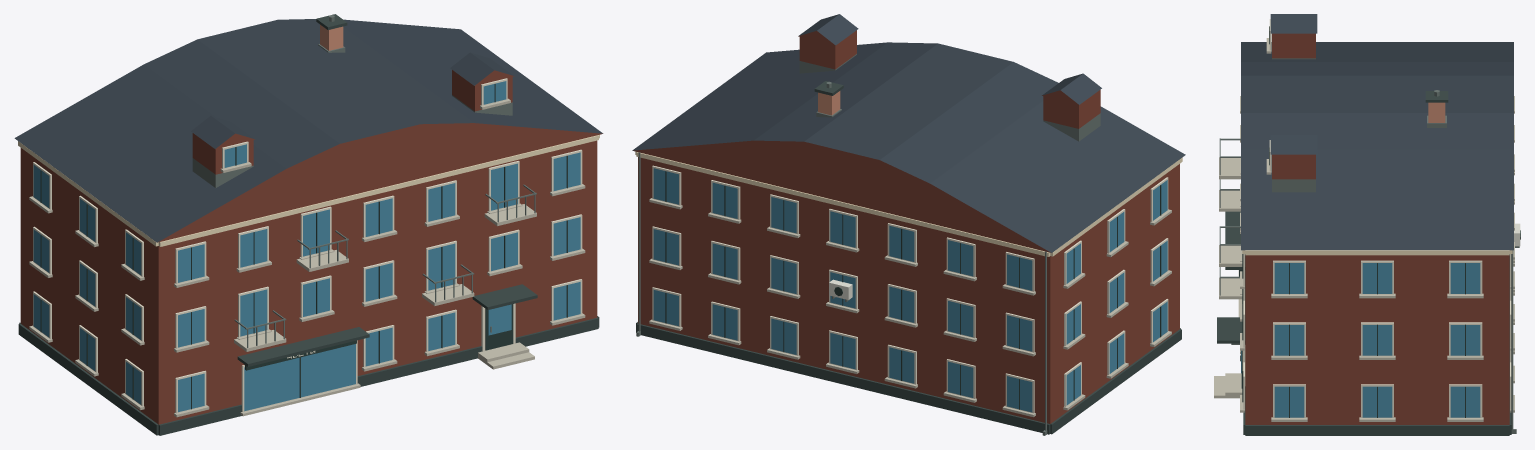
Rendered from Mansard3.obj.
The picture shows the model from 3 angles, left to right: view 1: azimuth 30°, elevation 25°; view 2: azimuth 150°, elevation 25°; view 3: azimuth 270°, elevation 25°; orthographic projection. The views are drawn at different scales.
Visible parts, largest first — view 1: Mansard3; view 2: Mansard3; view 3: Mansard3.
Boxes of the visible parts, x1=… form: Mansard3: x1=14, y1=14, x2=603, y2=435; Mansard3: x1=632, y1=14, x2=1185, y2=435; Mansard3: x1=1214, y1=14, x2=1520, y2=435.
Bounding box in the file's own units: 22.5 × 13.37 × 13.95.
Materials: 1 (1 with a texture image).
